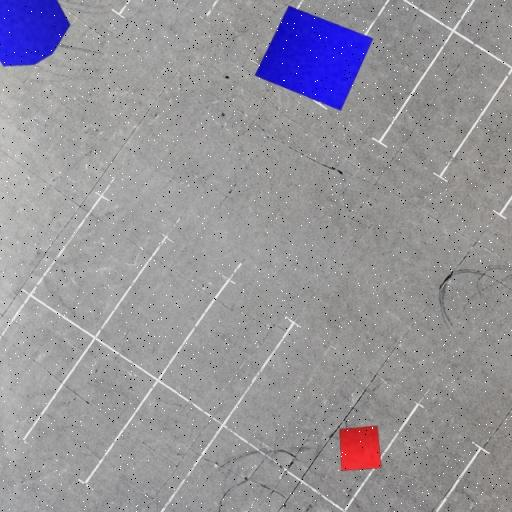BLUE_SQUARE: (254, 6, 374, 111)
RED_SQUARE: (338, 425, 382, 471)
